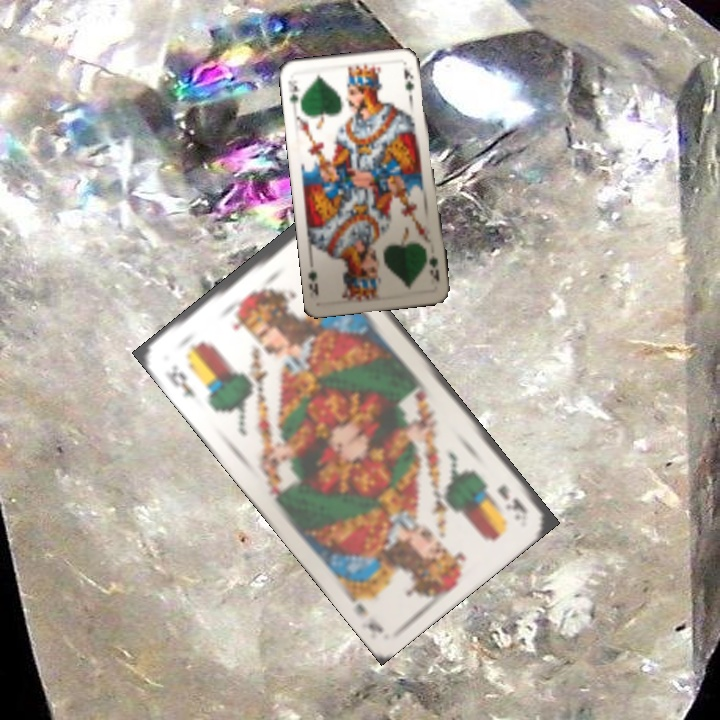EK: (161, 360, 199, 402), (493, 480, 530, 516)
GK: (284, 76, 303, 107), (425, 251, 442, 284)
